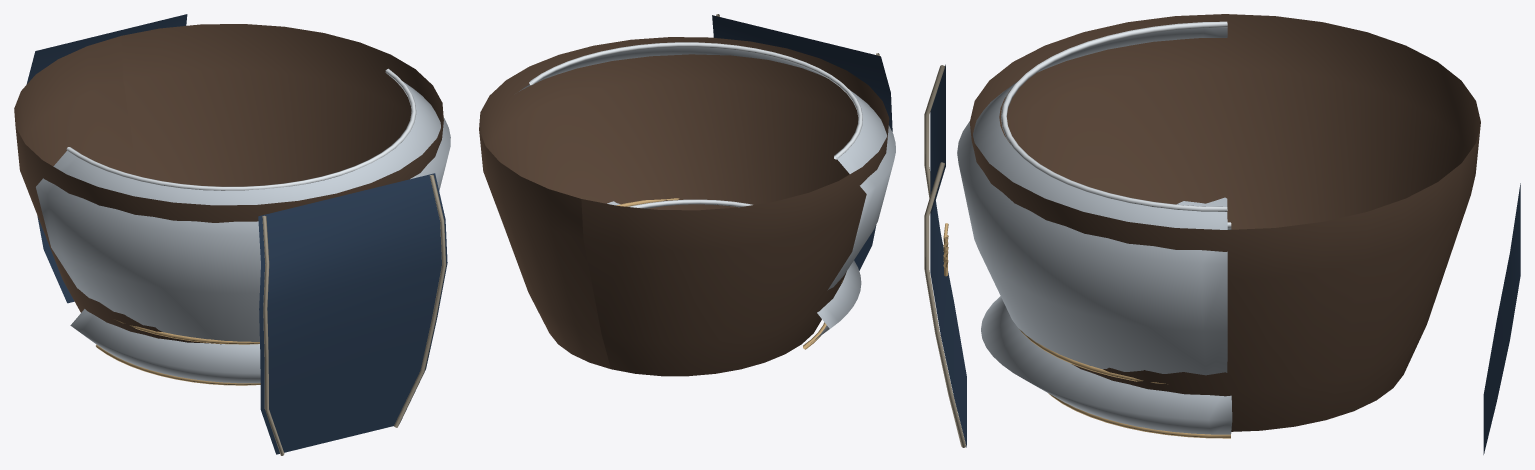
File: thigh.glb
3 renders of one model, left to right at view 1: azimuth 30°, elevation 25°; view 2: azimuth 150°, elevation 25°; view 3: azimuth 270°, elevation 25°, orthographic. The views are drawn at different scales.
Visible parts, largest first — view 1: thigh_leather, split_tabard, cuisses, knee_cap, tabard_gold_border (×2), rear_tabard, cuisses_bevel, knee_cap_gold_rim, cuisses_gold_rim; view 2: thigh_leather, cuisses, split_tabard, cuisses_bevel, knee_cap, knee_cap_bevel; view 3: thigh_leather, cuisses, knee_cap, split_tabard, rear_tabard, cuisses_bevel, tabard_gold_border (×2), knee_cap_gold_rim.
Boxes of the visible parts, <box> form: thigh_leather: <box>14,24,443,344</box>; split_tabard: <box>258,173,447,454</box>; cuisses: <box>36,81,450,341</box>; knee_cap: <box>70,309,260,383</box>; tabard_gold_border (×2): <box>262,174,446,455</box>; rear_tabard: <box>26,14,187,303</box>; cuisses_bevel: <box>66,68,416,190</box>; knee_cap_gold_rim: <box>96,344,260,385</box>; cuisses_gold_rim: <box>114,319,259,344</box>; thigh_leather: <box>479,37,889,376</box>; cuisses: <box>519,47,895,290</box>; split_tabard: <box>712,15,892,270</box>; cuisses_bevel: <box>529,42,862,159</box>; knee_cap: <box>645,205,861,343</box>; knee_cap_bevel: <box>628,199,752,208</box>; thigh_leather: <box>969,14,1480,431</box>; cuisses: <box>957,27,1227,375</box>; knee_cap: <box>981,228,1232,434</box>; split_tabard: <box>930,64,966,447</box>; rear_tabard: <box>1483,183,1520,454</box>; cuisses_bevel: <box>1001,21,1227,211</box>; tabard_gold_border (×2): <box>924,65,965,447</box>; knee_cap_gold_rim: <box>1048,393,1230,438</box>.
Bounding box in the file's own units: 2 × 1.3 × 2.26.
